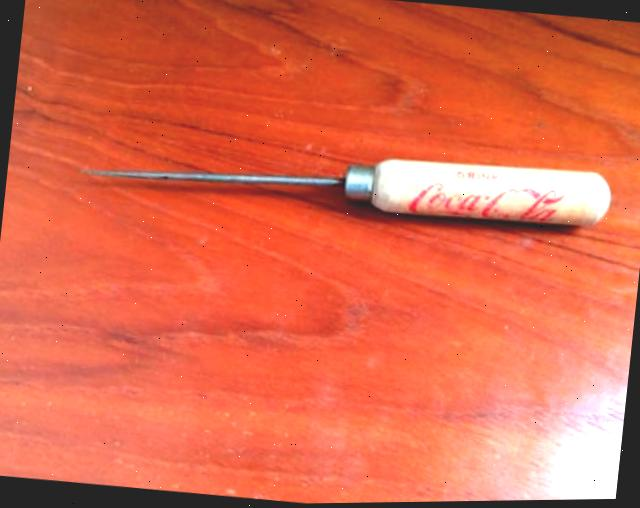ice pick: (80, 121, 612, 244)
